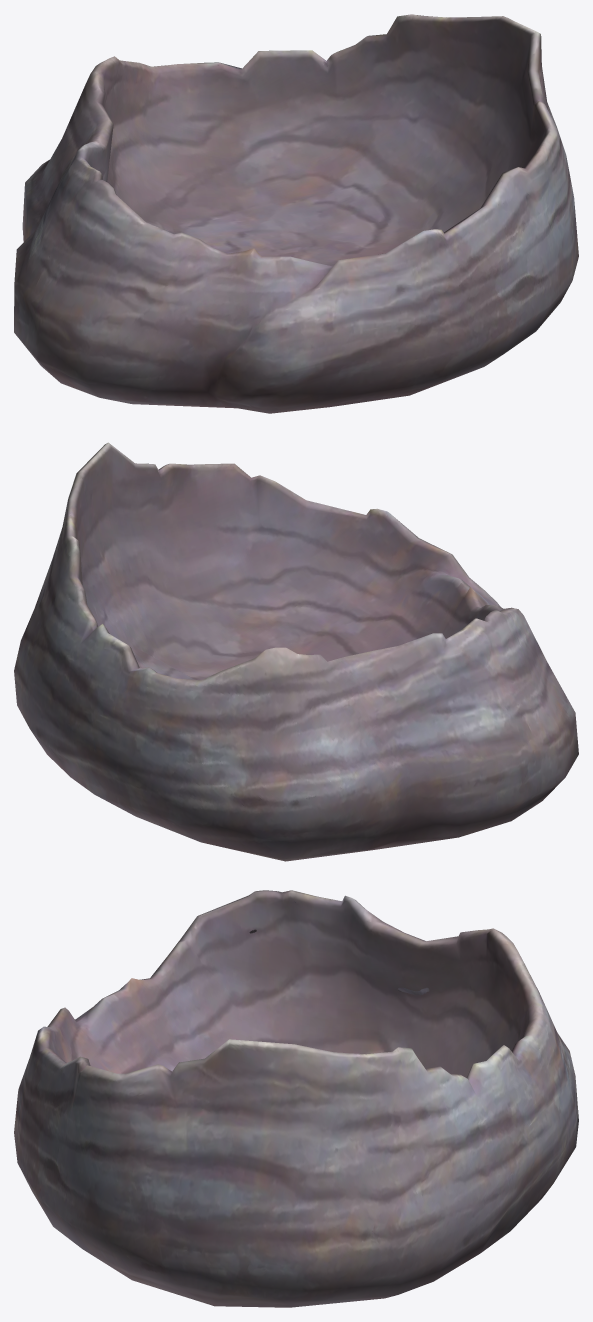
The picture shows the model from 3 angles, top to bottom: view 1: azimuth 30°, elevation 25°; view 2: azimuth 150°, elevation 25°; view 3: azimuth 270°, elevation 25°; orthographic projection. The views are drawn at different scales.
Visible parts, largest first — view 1: SM_Kalphite_Nest_01v2_LOD0; view 2: SM_Kalphite_Nest_01v2_LOD0; view 3: SM_Kalphite_Nest_01v2_LOD0.
Boxes of the visible parts, x1,y1,x2,y2 form: SM_Kalphite_Nest_01v2_LOD0: (14,14,578,413); SM_Kalphite_Nest_01v2_LOD0: (14,442,578,861); SM_Kalphite_Nest_01v2_LOD0: (14,890,578,1307).
Bounding box in the file's own units: 2.73 × 1.41 × 2.38.
Materials: 1 (1 with a texture image).
